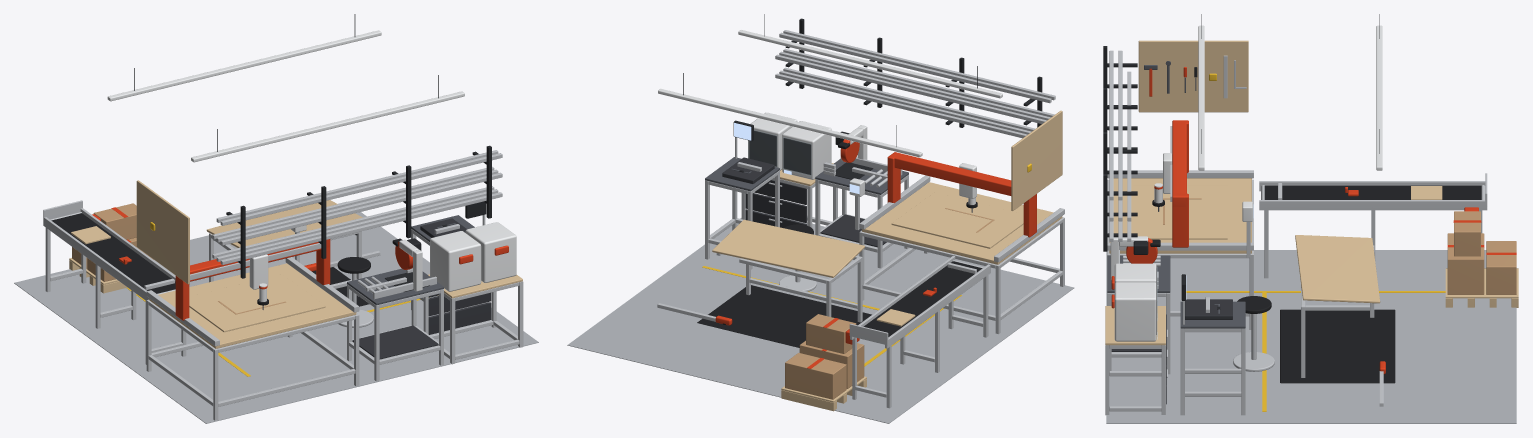
The model's file is atolye.glb.
The picture shows the model from 3 angles, left to right: view 1: azimuth 30°, elevation 25°; view 2: azimuth 150°, elevation 25°; view 3: azimuth 270°, elevation 25°; orthographic projection. The views are drawn at different scales.
Visible parts, largest first — view 1: floor_epoxy, cnc_panel, cnc_bed, peg_board, pr0_body, conv_belt, pr1_body, led_bar1, led_bar0, stock00, stock10, stock20 (+23 smaller); view 2: floor_epoxy, desk_top, asm_mat, cnc_panel, cnc_bed, peg_board, box1, conv_belt, cnc_beam, led_bar0, led_bar1, stock21 (+32 smaller); view 3: floor_epoxy, asm_mat, peg_board, desk_top, cnc_panel, cnc_bed, conv_belt, pr1_body, conv_sideR, box0, box1, cnc_beam (+26 smaller).
Boxes of the visible parts, x1,y1,x2,y2 form: floor_epoxy: (14, 201, 538, 423); cnc_panel: (189, 274, 325, 332); cnc_bed: (149, 263, 356, 348); peg_board: (136, 180, 189, 284); pr0_body: (430, 231, 481, 291); conv_belt: (51, 213, 175, 293); pr1_body: (465, 222, 516, 282); led_bar1: (107, 30, 381, 101); led_bar0: (191, 91, 464, 162); stock00: (220, 192, 502, 264); stock10: (220, 172, 502, 245); stock20: (220, 153, 502, 225); floor_epoxy: (567, 210, 1074, 423); desk_top: (712, 219, 864, 277); asm_mat: (697, 285, 871, 347); cnc_panel: (891, 192, 1023, 248); cnc_bed: (862, 182, 1062, 264); peg_board: (1011, 110, 1062, 210); box1: (785, 353, 846, 399); conv_belt: (863, 261, 982, 336); cnc_beam: (889, 152, 1036, 199); led_bar0: (738, 30, 1002, 98); led_bar1: (658, 88, 922, 157); stock21: (779, 32, 1051, 103); floor_epoxy: (1106, 250, 1516, 423); asm_mat: (1280, 309, 1395, 383); peg_board: (1138, 40, 1248, 112); desk_top: (1295, 235, 1380, 303); cnc_panel: (1133, 185, 1227, 239); cnc_bed: (1109, 178, 1251, 253); conv_belt: (1264, 185, 1481, 199); pr1_body: (1114, 282, 1156, 341); conv_sideR: (1259, 200, 1487, 210); box0: (1447, 233, 1484, 294); box1: (1486, 241, 1516, 294); cnc_beam: (1172, 120, 1186, 206).
Bounding box in the file's own units: 3.97 × 2.8 × 3.97.
